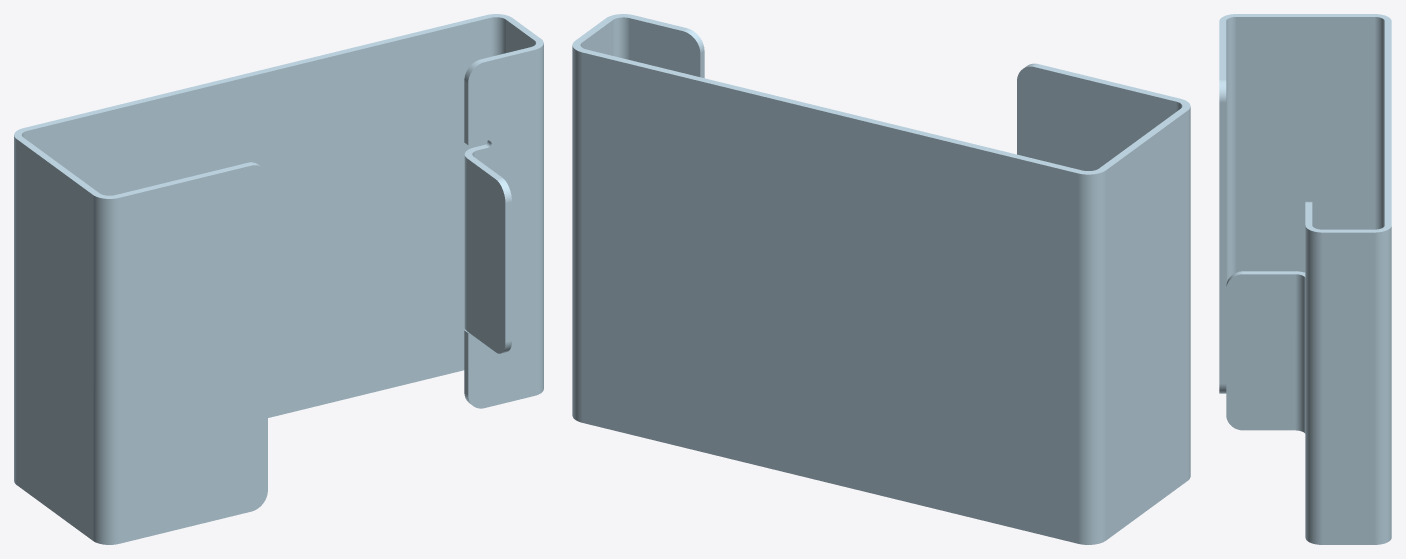
File: Chapa dobrada.glb
The picture shows the model from 3 angles, left to right: view 1: azimuth 30°, elevation 25°; view 2: azimuth 150°, elevation 25°; view 3: azimuth 270°, elevation 25°; orthographic projection. The views are drawn at different scales.
Visible parts, largest first — view 1: Part 1; view 2: Part 1; view 3: Part 1.
Part boxes in pixels (<box>): Part 1: <box>14,14,543,544</box>; Part 1: <box>572,14,1190,544</box>; Part 1: <box>1219,14,1391,544</box>.
Bounding box in the file's own units: 0.15 × 0.1 × 0.05.
